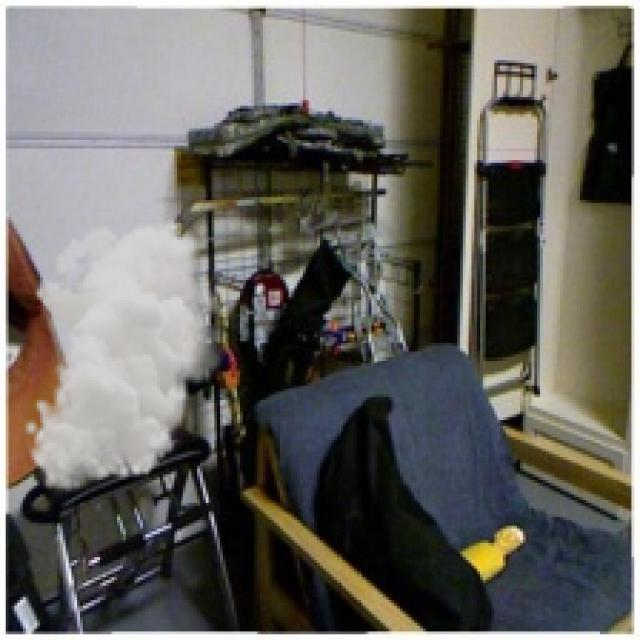smoke: (23, 217, 228, 492)
